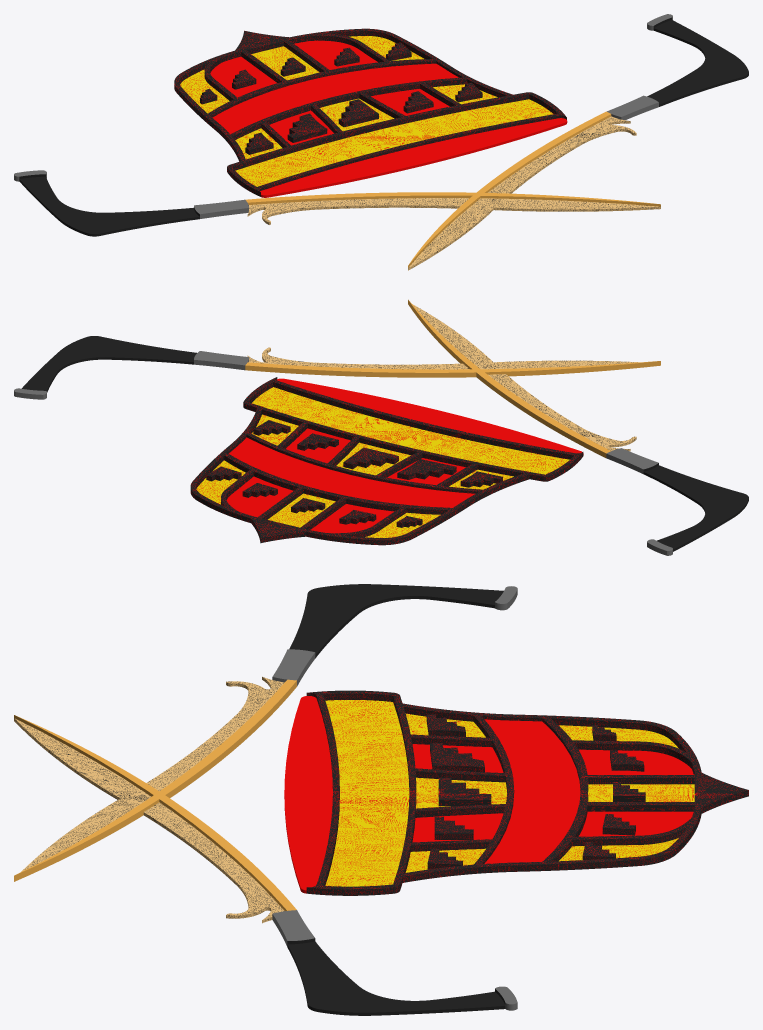
The picture shows the model from 3 angles, top to bottom: view 1: azimuth 30°, elevation 25°; view 2: azimuth 150°, elevation 25°; view 3: azimuth 270°, elevation 25°; orthographic projection. The views are drawn at different scales.
Visible parts, largest first — view 1: Kupiah_Meuketop (×22), Rincong (×8); view 2: Kupiah_Meuketop (×23), Rincong (×8); view 3: Kupiah_Meuketop (×22), Rincong (×8).
Boxes of the visible parts, box(x1,y1,x2,y2) form: Kupiah_Meuketop (×22): box(174, 28, 567, 197); Rincong (×8): box(19, 17, 748, 270); Kupiah_Meuketop (×23): box(190, 377, 583, 545); Rincong (×8): box(22, 299, 748, 551); Kupiah_Meuketop (×22): box(284, 690, 748, 895); Rincong (×8): box(14, 584, 505, 1015).
Bounding box in the file's own units: 57.13 × 41.4 × 0.3937.
